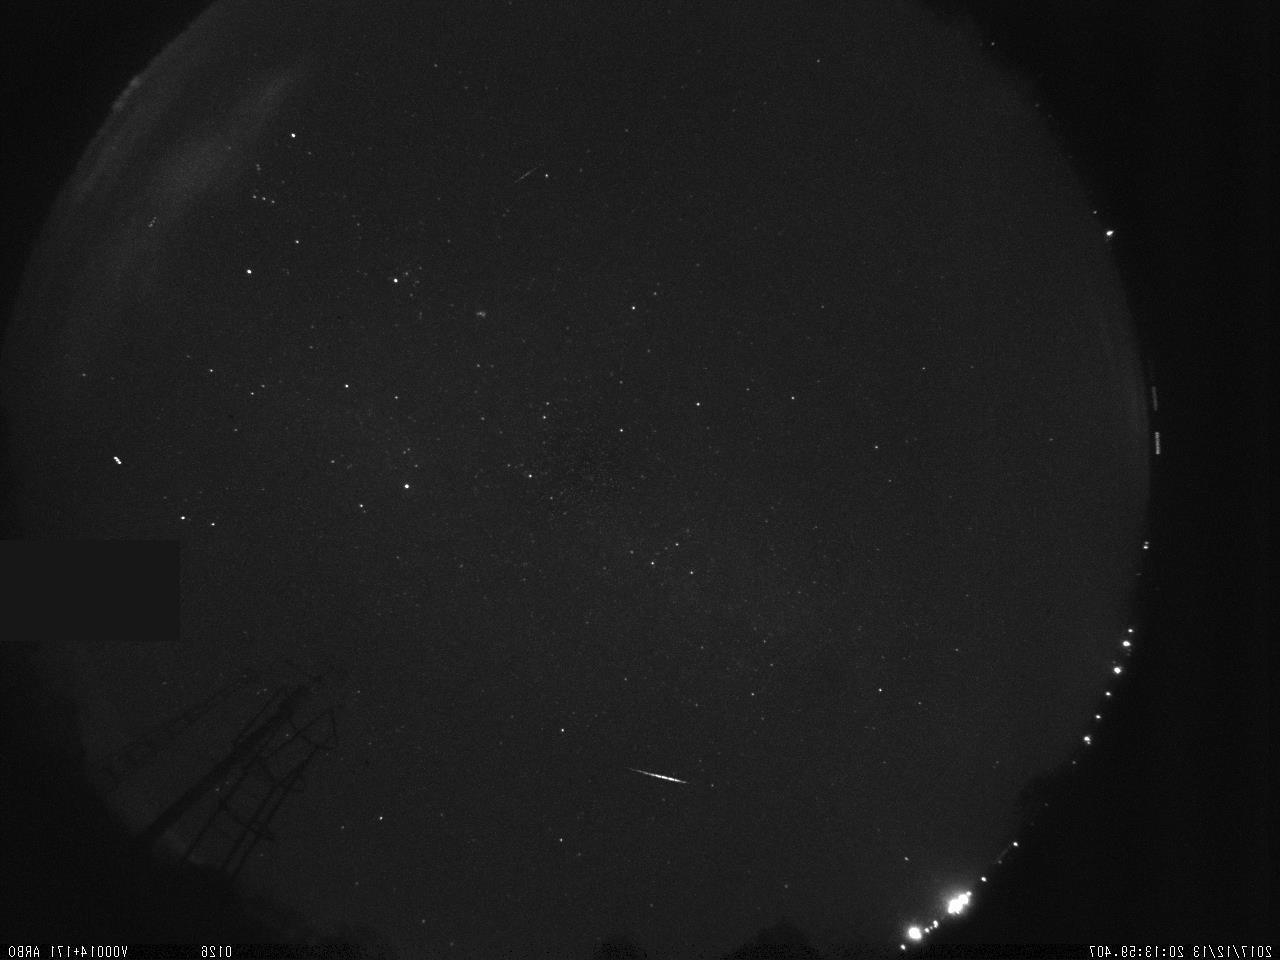meteor: (625, 764, 718, 799), (507, 153, 550, 196)
